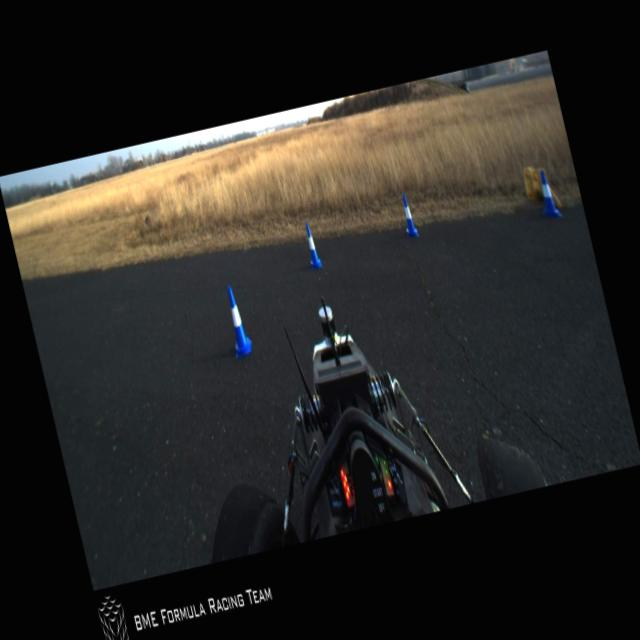blue_cone: (220, 284, 254, 356), (532, 169, 562, 221), (302, 222, 322, 270), (398, 193, 418, 238)
unknown_cone: (530, 165, 562, 211), (520, 164, 541, 203)
